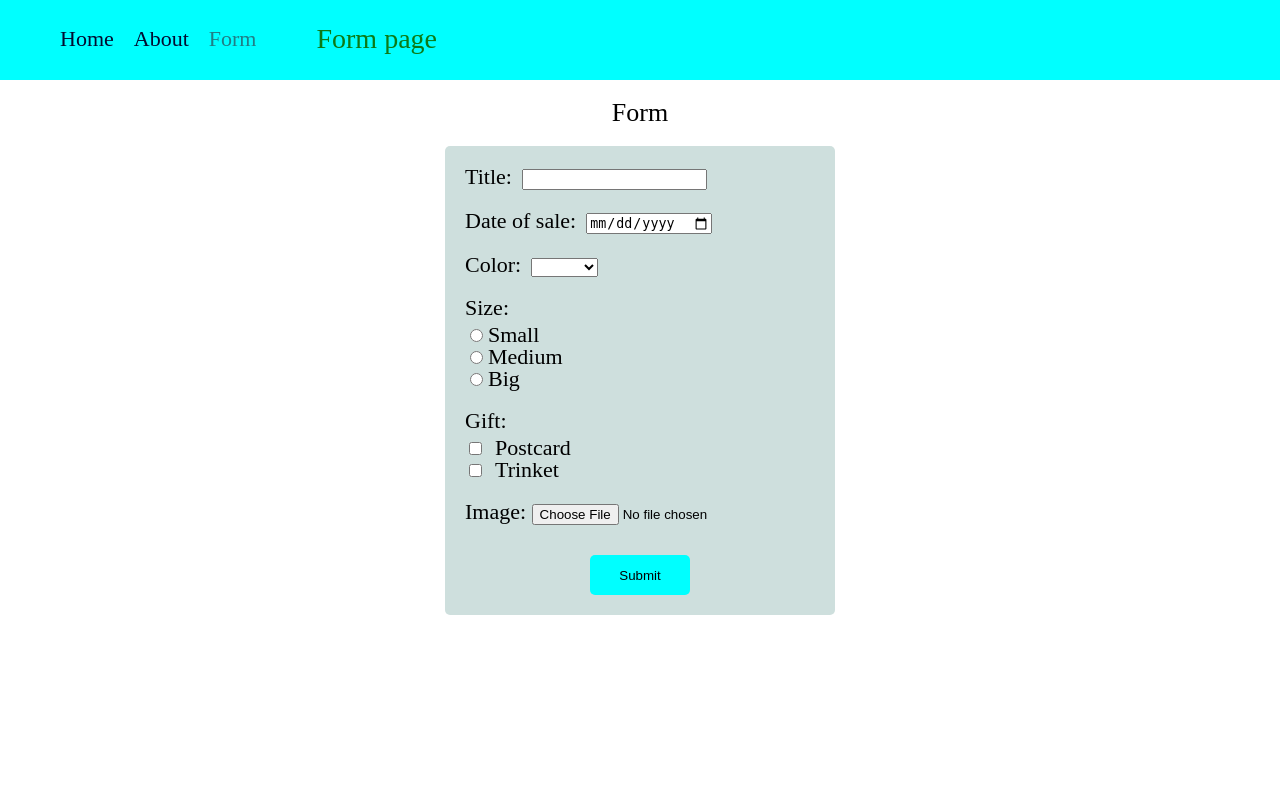
The Form Page › show mistakes when data is greater then current
The image size is (1280, 800).
Type "2023-05-22" into the date field with id "date" at {"x": 649, "y": 224}, box [586,213,711,234]
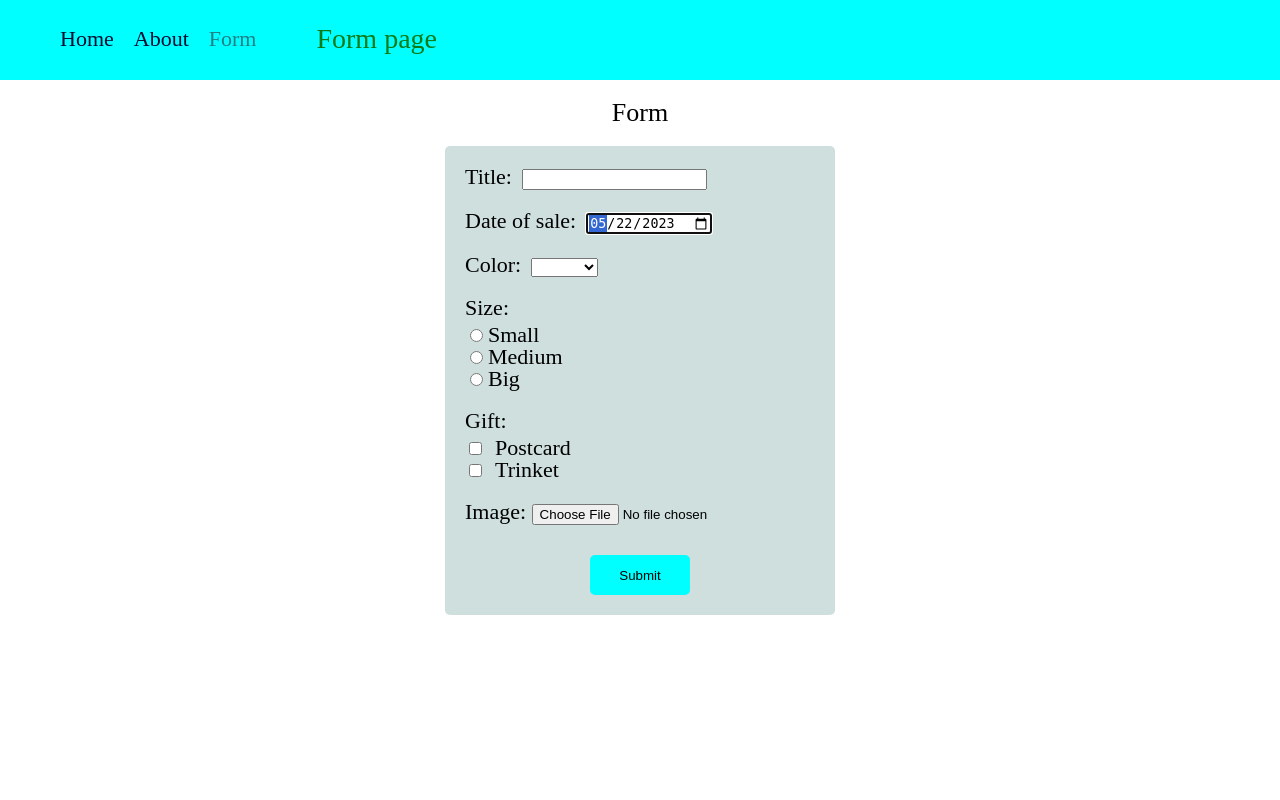
Click the button with class "form__button" at {"x": 640, "y": 575}, box [590,555,690,595]
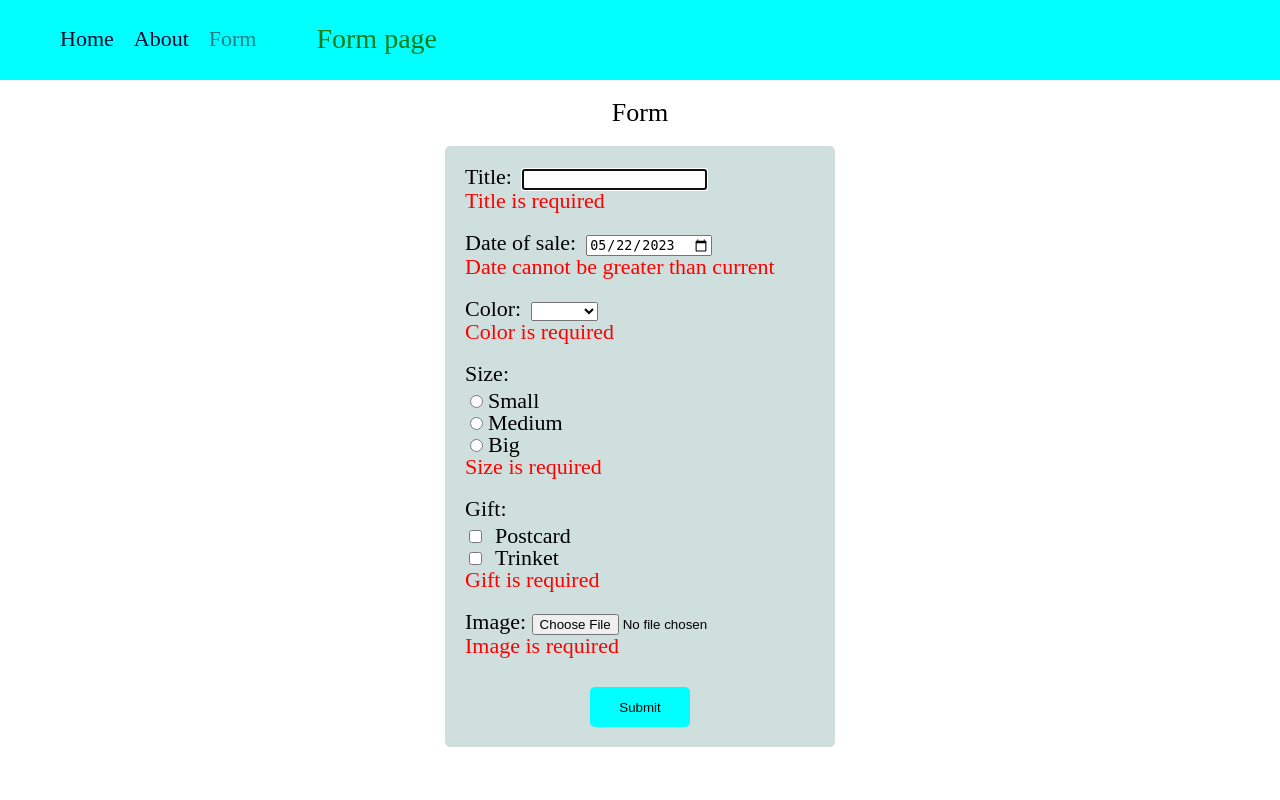
Expected: the text "Date cannot be greater than current" is shown, [465,256,815,278]
